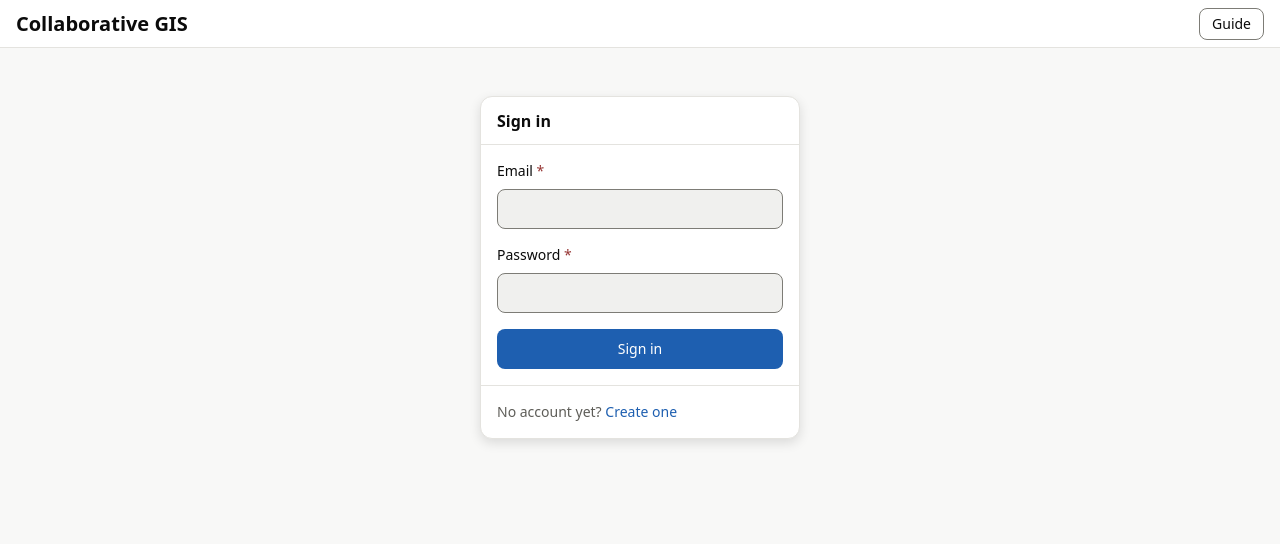
Test: /login › shows the server message in an alert on a wrong password and stays on /login
The width and height of the screenshot is (1280, 544).
Check: the heading "Sign in" is shown, box [497,108,551,132]
Type "ada@example.com" into the field labelled "Email".
click(640, 209); type("ada@example.com")  # box [497,189,783,229]
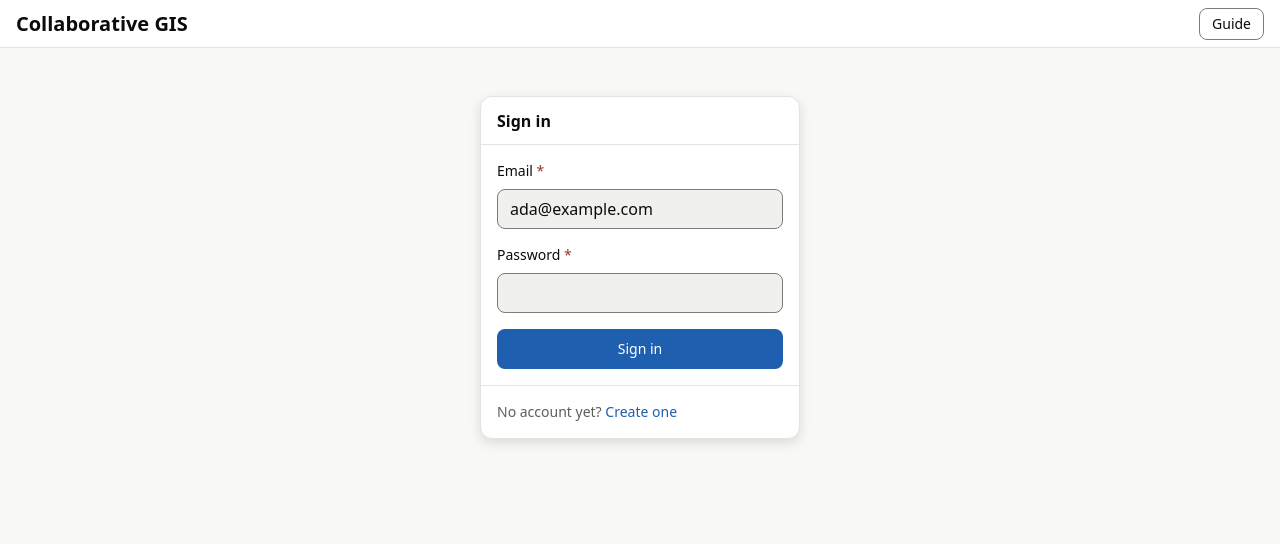
Type "wrong password" into the password field labelled "Password".
click(640, 293); type("wrong password")  # box [497,273,783,313]
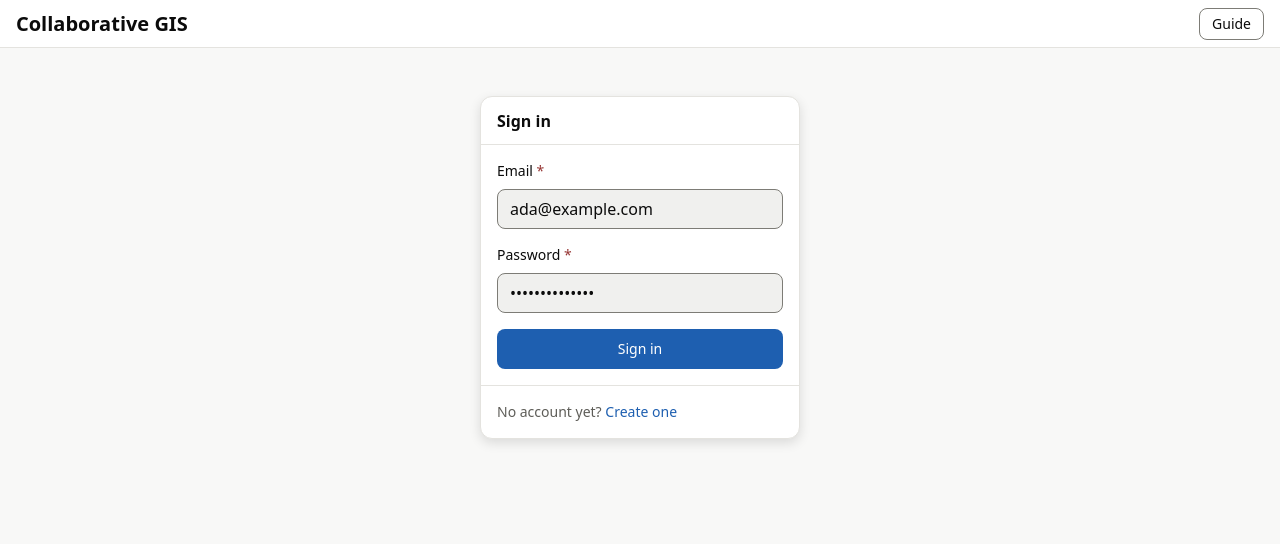
Click the button "Sign in".
click(640, 349)  # box [497,329,783,369]
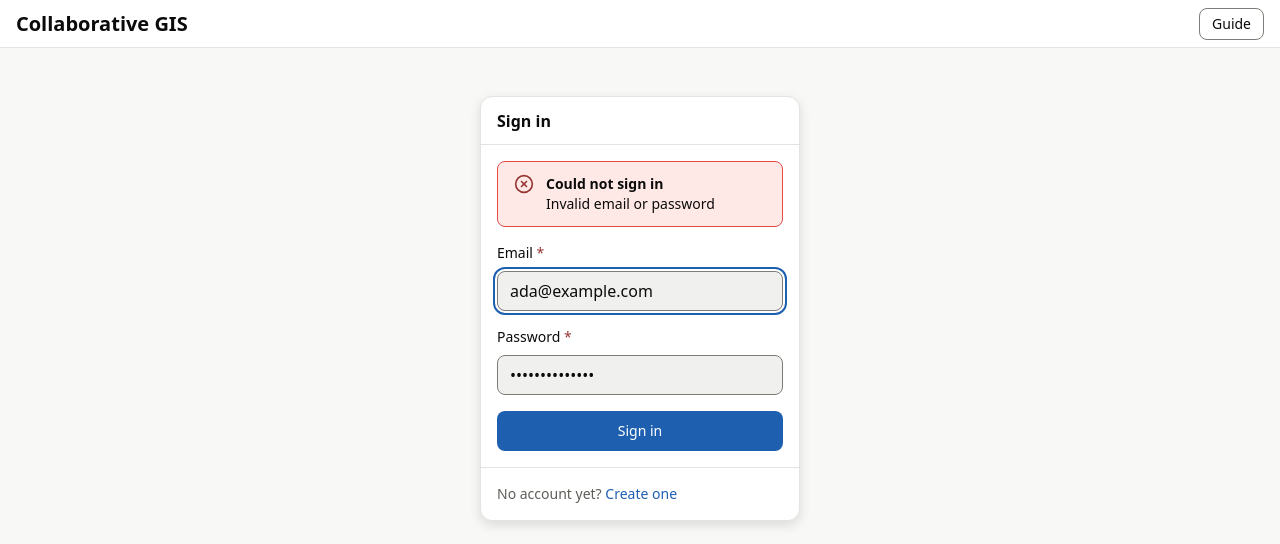
Check: the button "Sign in" is enabled, box [497,411,783,451]
Check: the message shows "Invalid email or password", box [546,194,715,213]
Check: the message shows "Could not sign in", box [546,174,664,193]
